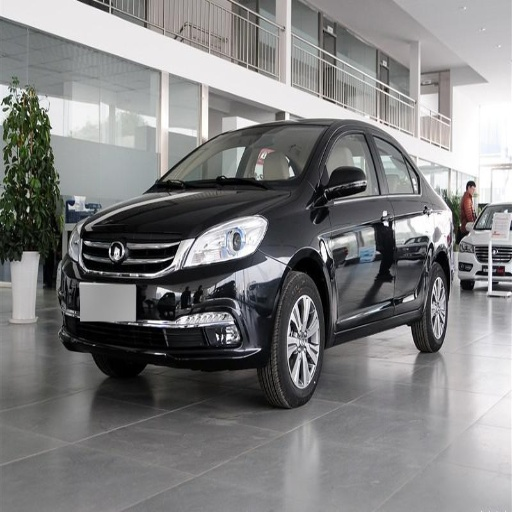front_bumper: (58, 223, 285, 369)
front_glass: (155, 125, 328, 189)
front_left_door: (320, 124, 395, 321)
